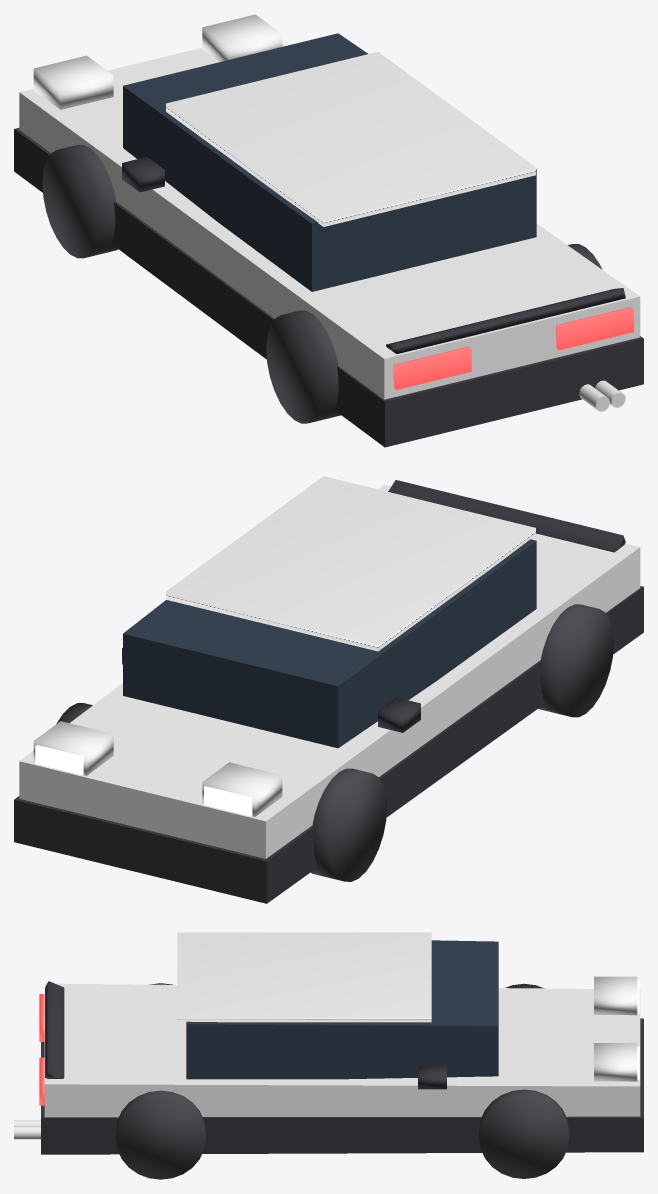
File: car_h86.glb
3 renders of one model, top to bottom at view 1: azimuth 30°, elevation 25°; view 2: azimuth 150°, elevation 25°; view 3: azimuth 270°, elevation 25°, orthographic. The views are drawn at different scales.
Visible parts, largest first — view 1: RS86_HoodShoulder, Cube, RS86_CabinGlass, RS86_Chassis, FL_Tire, RL_Tire, Cube.001, Cube.007, Cube.003, Cube.005, Cube.006, Cube.008; view 2: RS86_HoodShoulder, RS86_CabinGlass, Cube, RS86_Chassis, FL_Tire, RL_Tire, Cube.007, Cube.003, Cube.001, Cube.008, Cube.002, Cube.004; view 3: RS86_HoodShoulder, Cube, RS86_CabinGlass, RS86_Chassis, FR_Tire, RR_Tire, Cube.007, Cube.001, Cube.003, Cube.009, Cylinder.001.
Boxes of the visible parts, <box> form: RS86_HoodShoulder: <box>19,44,640,399</box>; Cube: <box>166,52,535,226</box>; RS86_CabinGlass: <box>123,33,536,291</box>; RS86_Chassis: <box>14,128,643,447</box>; FL_Tire: <box>42,145,118,258</box>; RL_Tire: <box>266,310,340,423</box>; Cube.001: <box>33,55,113,109</box>; Cube.007: <box>386,288,625,353</box>; Cube.003: <box>202,14,282,61</box>; Cube.005: <box>393,346,471,389</box>; Cube.006: <box>556,307,633,350</box>; Cube.008: <box>122,157,164,192</box>; RS86_HoodShoulder: <box>19,484,640,858</box>; RS86_CabinGlass: <box>123,539,536,748</box>; Cube: <box>166,476,535,651</box>; RS86_Chassis: <box>14,586,643,903</box>; FL_Tire: <box>310,768,386,881</box>; RL_Tire: <box>538,604,613,717</box>; Cube.007: <box>388,480,625,552</box>; Cube.003: <box>33,721,113,775</box>; Cube.001: <box>202,762,282,816</box>; Cube.008: <box>378,697,420,732</box>; Cube.002: <box>204,786,252,816</box>; Cube.004: <box>35,745,83,775</box>; RS86_HoodShoulder: <box>44,983,640,1117</box>; Cube: <box>177,932,431,1022</box>; RS86_CabinGlass: <box>186,940,498,1079</box>; RS86_Chassis: <box>41,1018,643,1154</box>; FR_Tire: <box>479,1089,568,1178</box>; RR_Tire: <box>115,1090,205,1179</box>; Cube.007: <box>45,981,64,1078</box>; Cube.001: <box>594,976,637,1015</box>; Cube.003: <box>594,1043,637,1081</box>; Cube.009: <box>418,1066,446,1089</box>; Cylinder.001: <box>14,1126,40,1139</box>.
Bounding box in the file's own units: 1.87 × 1.13 × 4.33.
